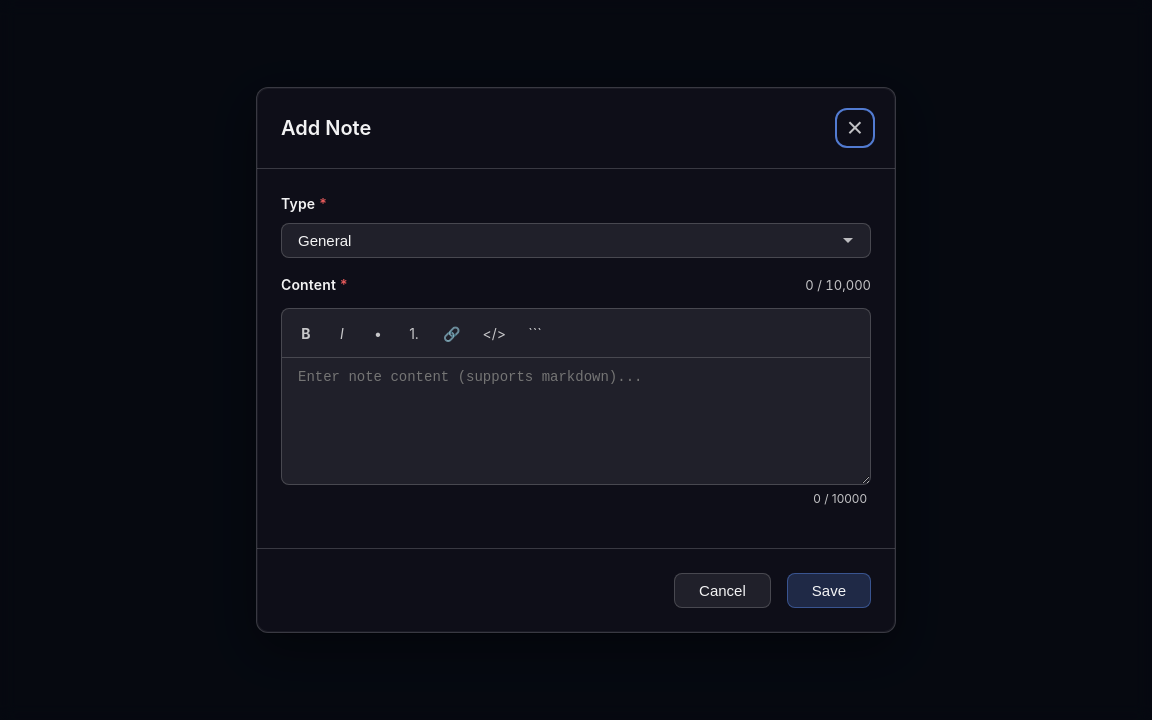
Test: NoteModal › validation › clears validation error when user changes type
The image size is (1152, 720).
# Trigger validation error
Click the button "Save".
click(829, 591)  # box [787,574,871,608]
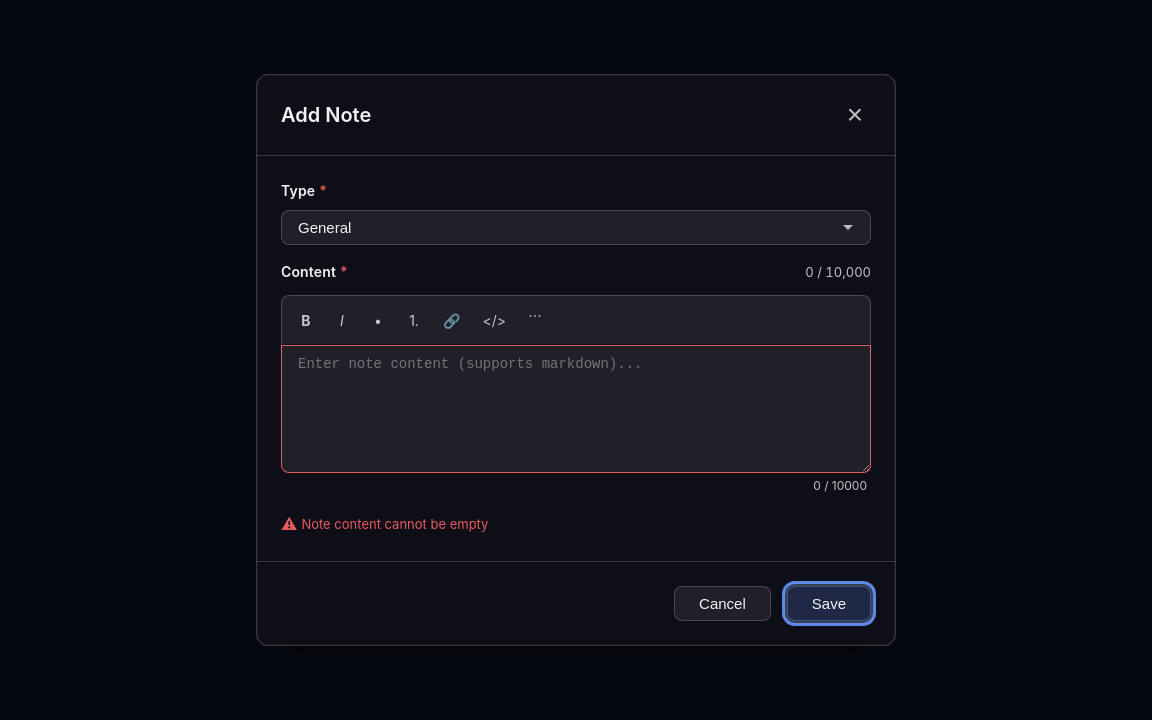
Now the message "Note content cannot be empty" is shown, box [301,516,488,532]
# Change type
Select "Bug Fix Attempt" in the dropdown labelled "Type" at (576, 228), box [281,210,871,245]
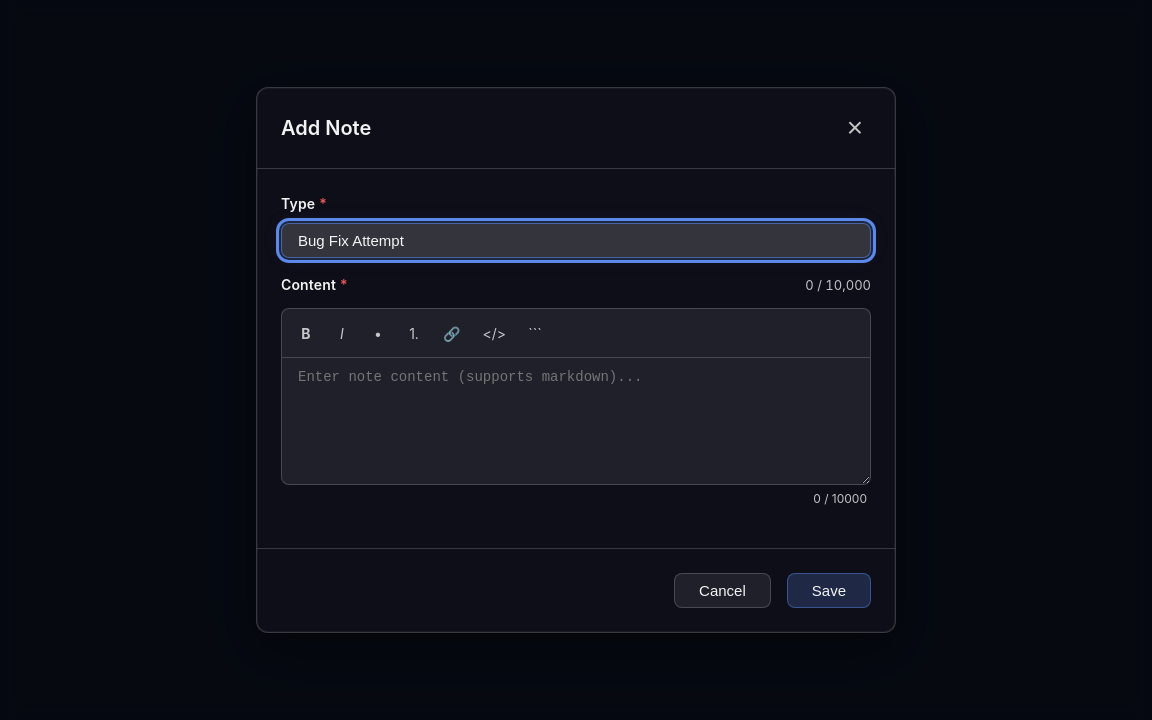
Now the message "Note content cannot be empty" is gone
